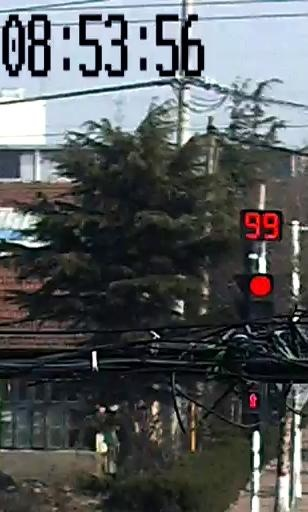red: (248, 272, 274, 300)
redpeople: (248, 389, 262, 413)
redtime: (244, 212, 281, 242)
